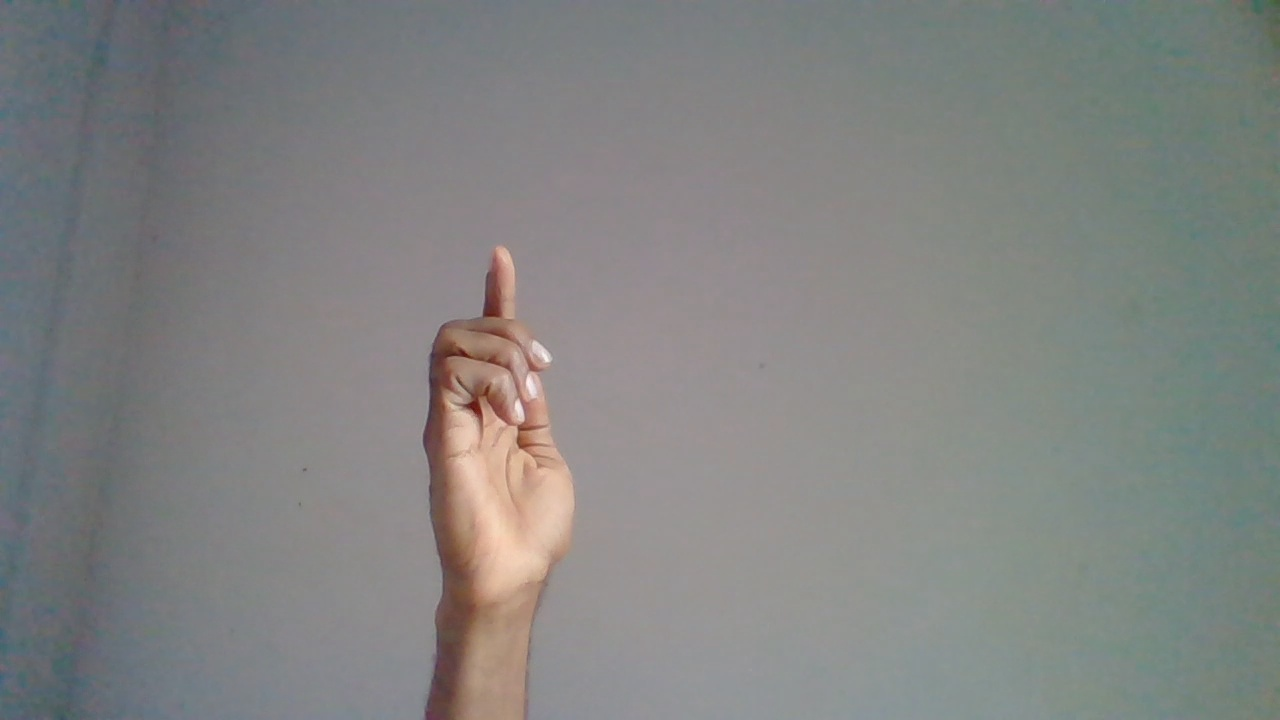qe: (420, 246, 579, 683)
